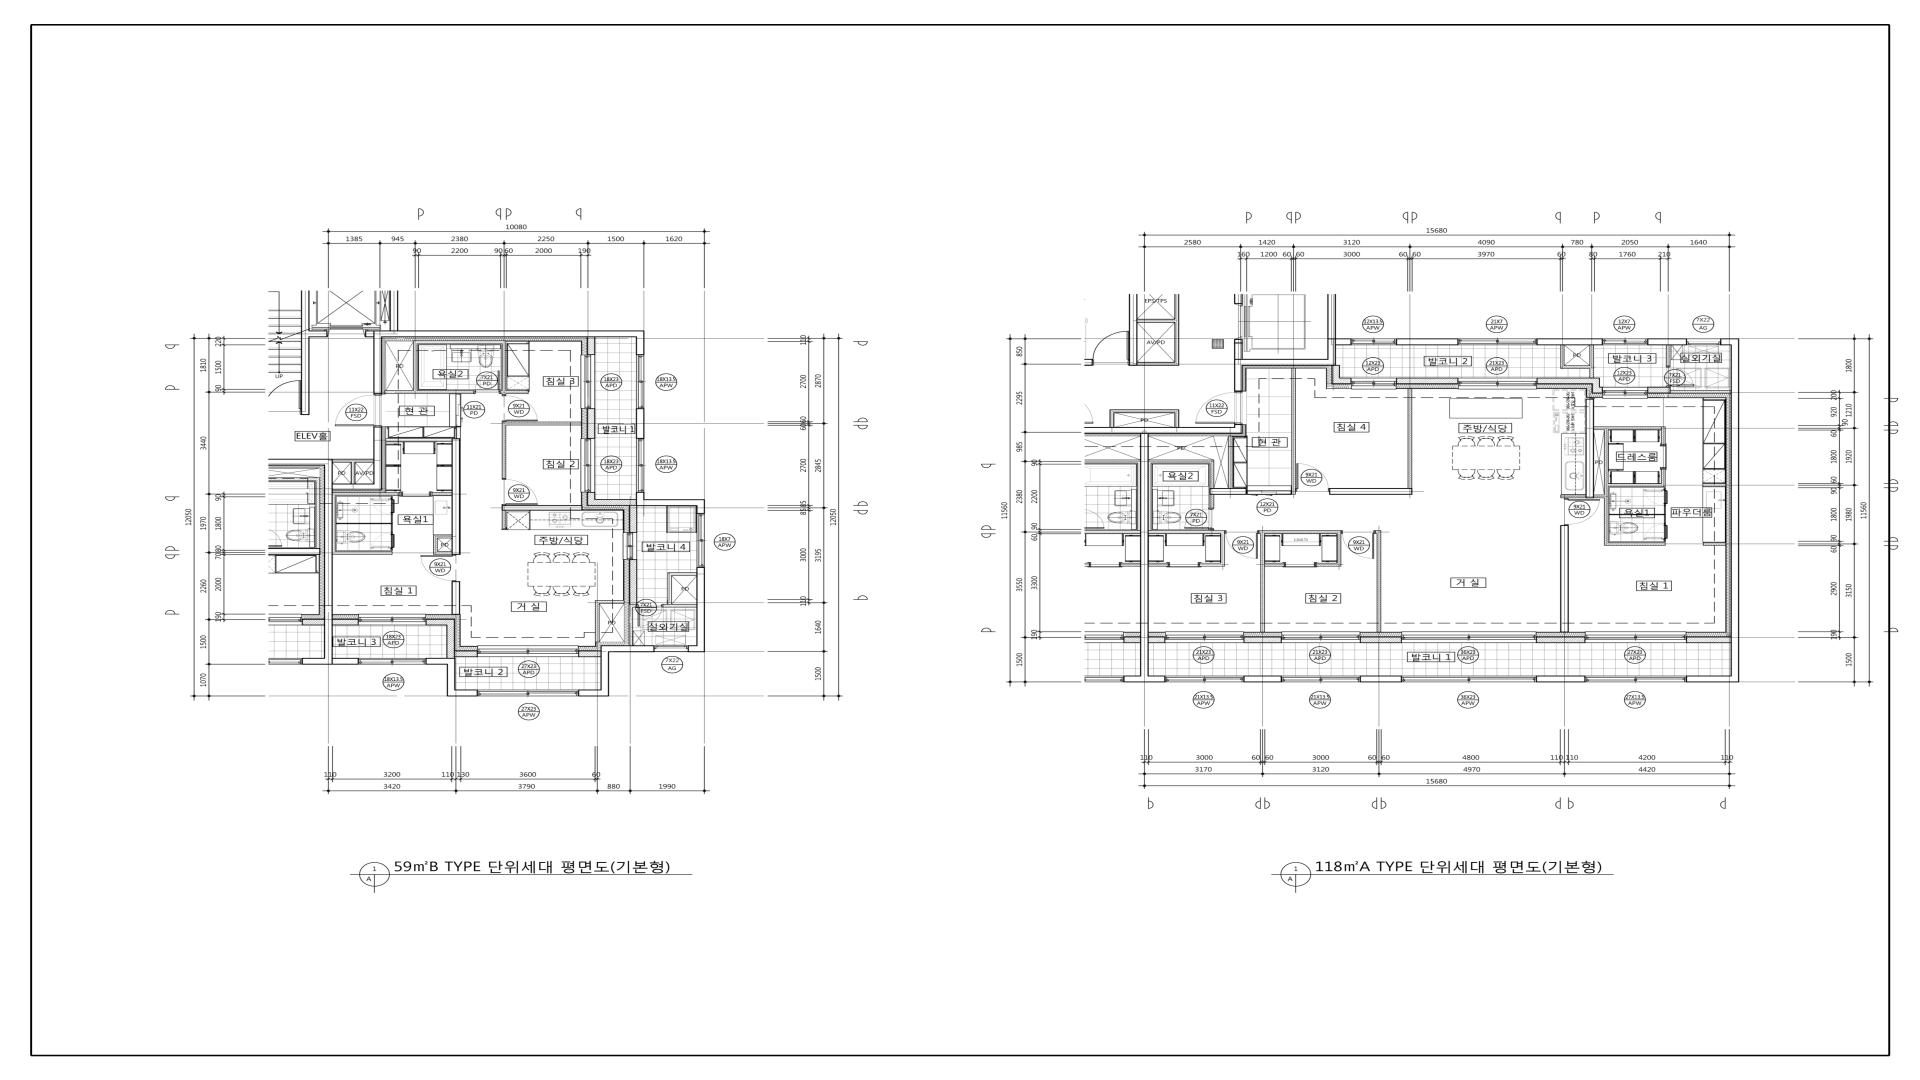door: (335, 394, 381, 427), (1195, 392, 1236, 423), (268, 381, 302, 415), (501, 477, 538, 505), (502, 394, 538, 422), (1296, 463, 1329, 492), (421, 555, 456, 582), (1225, 531, 1258, 559), (1564, 500, 1600, 525), (1342, 531, 1374, 559), (475, 371, 501, 394), (638, 604, 663, 626), (1668, 367, 1695, 386), (1184, 509, 1211, 529), (1643, 524, 1668, 539), (1643, 491, 1668, 505), (456, 394, 462, 427), (1247, 491, 1291, 495), (1168, 562, 1200, 567), (1284, 562, 1316, 567), (1660, 444, 1667, 469), (400, 492, 430, 497)
wall: (1687, 339, 1739, 682), (1139, 434, 1166, 683), (1234, 339, 1336, 392), (373, 331, 645, 338), (1084, 423, 1242, 434), (324, 465, 332, 665), (301, 290, 310, 415), (1560, 525, 1569, 632), (1536, 378, 1604, 393), (1585, 398, 1594, 498), (452, 439, 460, 555), (696, 567, 705, 645), (1374, 530, 1381, 632), (1291, 368, 1296, 495), (1129, 294, 1138, 365), (587, 492, 636, 505), (1604, 430, 1609, 546), (1329, 488, 1412, 495), (373, 427, 382, 484), (373, 338, 382, 394), (1407, 389, 1412, 488), (1536, 339, 1604, 345), (268, 459, 332, 465), (502, 505, 582, 510), (1327, 294, 1336, 339), (1396, 339, 1458, 345), (636, 500, 696, 506), (1261, 534, 1265, 632), (629, 604, 638, 645), (1332, 365, 1352, 384), (600, 645, 654, 651), (417, 340, 506, 344), (629, 559, 637, 604), (600, 651, 609, 690), (385, 390, 473, 394), (332, 484, 382, 491), (1258, 530, 1341, 534), (1396, 378, 1458, 384), (390, 290, 398, 331), (1536, 675, 1585, 682), (1536, 637, 1585, 644), (1685, 637, 1731, 644), (446, 625, 455, 658), (451, 582, 460, 615), (1149, 530, 1225, 534), (636, 409, 645, 439), (1360, 637, 1402, 644), (1228, 435, 1233, 488), (1594, 426, 1662, 430), (332, 492, 400, 496), (1175, 294, 1179, 361), (1647, 339, 1687, 345), (413, 342, 418, 390), (1114, 409, 1179, 413), (1244, 675, 1282, 682), (1209, 488, 1247, 495), (587, 409, 595, 439), (332, 551, 393, 555), (1609, 483, 1665, 487), (1609, 542, 1665, 546), (502, 422, 506, 479), (1360, 676, 1402, 682), (595, 600, 600, 642), (332, 496, 336, 551), (629, 506, 637, 533), (578, 690, 609, 696), (1244, 637, 1282, 642), (447, 690, 477, 696), (506, 422, 582, 425), (447, 665, 455, 690), (426, 658, 455, 665), (426, 618, 455, 625), (502, 344, 506, 390), (1149, 463, 1151, 530), (385, 439, 452, 442), (1336, 534, 1341, 567), (1589, 345, 1594, 378), (1149, 460, 1215, 463), (332, 658, 359, 665), (332, 618, 359, 625), (667, 572, 673, 604), (332, 459, 373, 463), (1138, 361, 1179, 365), (1671, 390, 1731, 393), (587, 338, 596, 355), (636, 338, 645, 355), (1647, 386, 1671, 393), (1234, 339, 1242, 359), (1220, 534, 1225, 563), (578, 650, 600, 657), (455, 650, 477, 657), (1138, 319, 1175, 323), (688, 645, 705, 653), (1209, 463, 1215, 488), (696, 500, 705, 513), (1149, 637, 1166, 644), (310, 331, 327, 338), (1665, 345, 1671, 367), (351, 463, 356, 484), (501, 390, 529, 394), (1336, 339, 1352, 345), (1200, 563, 1225, 567), (1560, 495, 1585, 498), (1564, 365, 1589, 369), (1109, 409, 1114, 427), (1702, 542, 1726, 546), (1702, 483, 1726, 487), (1560, 345, 1564, 369), (673, 572, 696, 576), (600, 600, 624, 604), (663, 604, 696, 607), (1316, 563, 1337, 567), (431, 492, 452, 496), (1234, 294, 1242, 305), (1149, 563, 1168, 567), (1265, 563, 1284, 567), (433, 534, 452, 538), (1209, 495, 1215, 509), (1174, 413, 1179, 427), (1609, 514, 1664, 516), (1662, 426, 1665, 444), (434, 551, 452, 555), (502, 510, 506, 529), (636, 492, 645, 500), (433, 538, 438, 551), (1084, 359, 1093, 365), (1662, 469, 1665, 483), (456, 426, 460, 439), (365, 331, 373, 338), (1594, 495, 1604, 498), (1664, 505, 1665, 524)
window: (1402, 632, 1536, 644), (1585, 632, 1687, 644), (477, 646, 579, 657), (1282, 632, 1360, 644), (1166, 632, 1244, 642), (1458, 378, 1536, 389), (580, 355, 595, 409), (580, 439, 595, 492), (1402, 676, 1536, 682), (359, 615, 426, 625), (1585, 675, 1687, 682), (477, 690, 578, 696), (1602, 386, 1648, 398), (1166, 675, 1244, 682), (1282, 675, 1360, 682), (1458, 339, 1536, 345), (1352, 378, 1396, 389), (359, 658, 426, 665), (696, 513, 704, 567), (637, 439, 645, 492), (622, 533, 637, 559), (637, 355, 644, 409), (1602, 339, 1647, 345), (1352, 339, 1396, 345), (1687, 339, 1721, 345), (654, 646, 688, 653)
